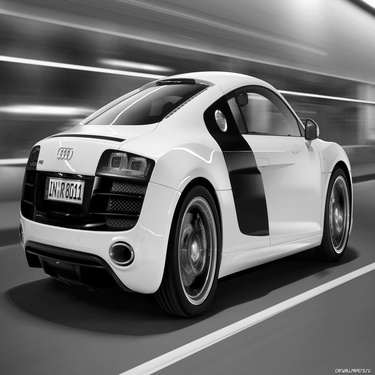car: (21, 60, 361, 322)
